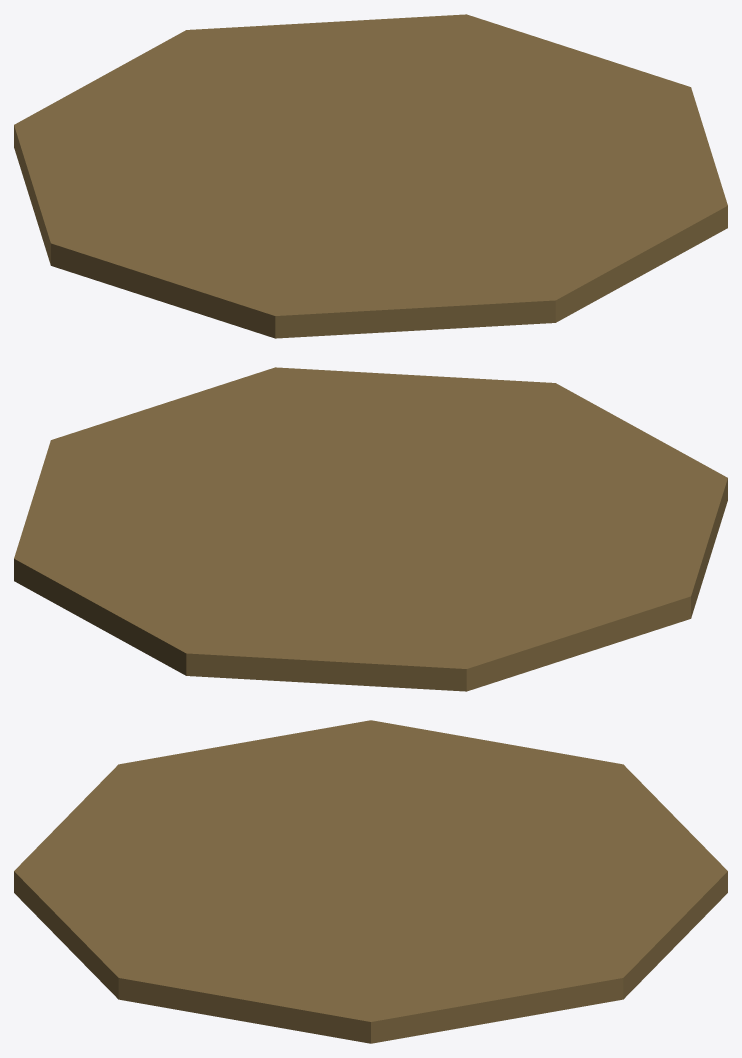
File: Itr_Table1_Top_01.FBX
The picture shows the model from 3 angles, top to bottom: view 1: azimuth 30°, elevation 25°; view 2: azimuth 150°, elevation 25°; view 3: azimuth 270°, elevation 25°; orthographic projection. The views are drawn at different scales.
Parts seen in each view (by area): view 1: Itr_Table1_Top_01; view 2: Itr_Table1_Top_01; view 3: Itr_Table1_Top_01.
Boxes of the visible parts, x1,y1,x2,y2 form: Itr_Table1_Top_01: [14, 14, 727, 338]; Itr_Table1_Top_01: [14, 367, 727, 691]; Itr_Table1_Top_01: [14, 720, 727, 1043].
Size of the model in its own units: 65.72 by 2.2 by 65.69.
